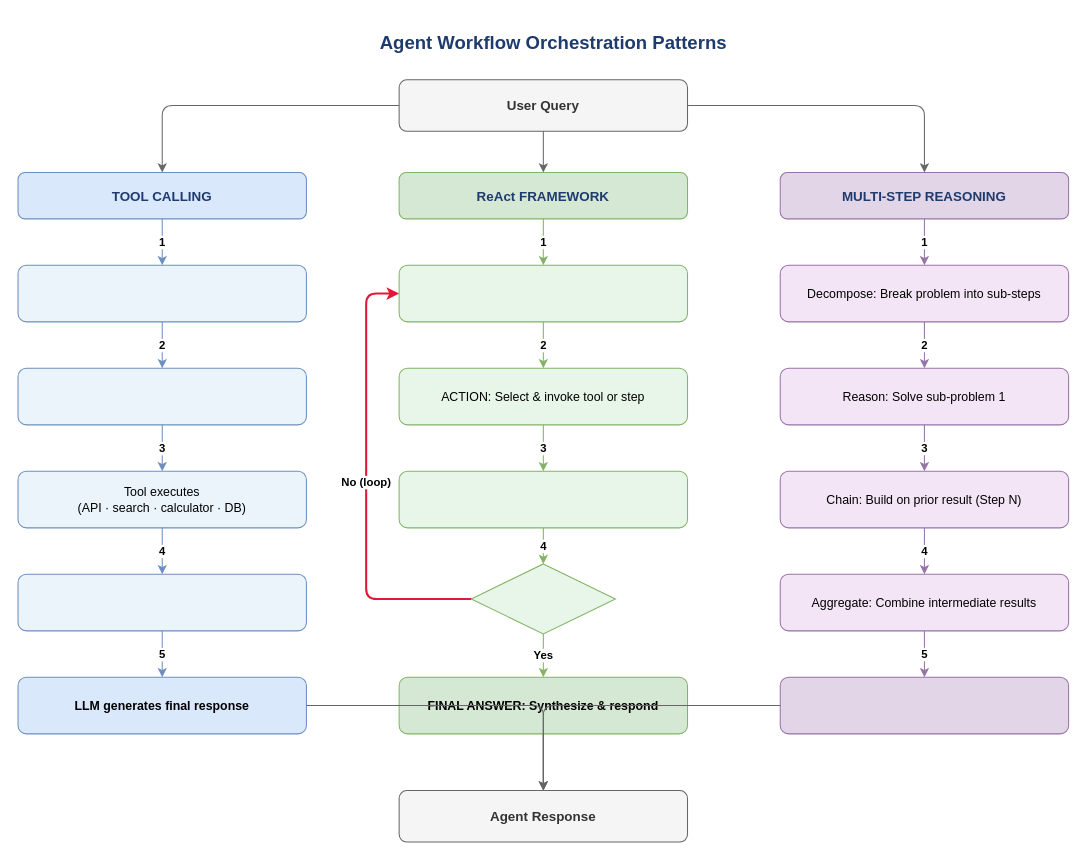
This 1087x860 diagram has some shape labels left out. The centre of each missing label's shape, as x and y in pixels:
Done?: (x=542, y=598)
LLM receives query + system context: (x=161, y=293)
LLM selects tool(s) to call: (x=161, y=396)
OBSERVATION: Read & parse result: (x=543, y=499)
Result injected into LLM context: (x=161, y=602)
Synthesize: Generate coherent final answer: (x=924, y=705)
THOUGHT: Analyze task, plan next step: (x=543, y=293)
